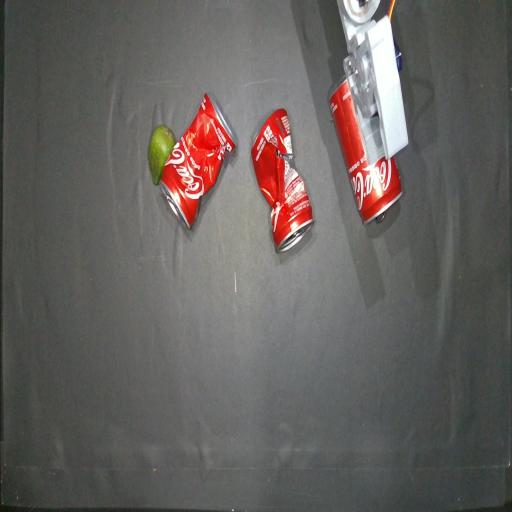higo: (148, 125, 175, 185)
lata: (329, 77, 402, 223)
lata_defectuoso: (160, 93, 236, 229), (251, 108, 313, 252)
